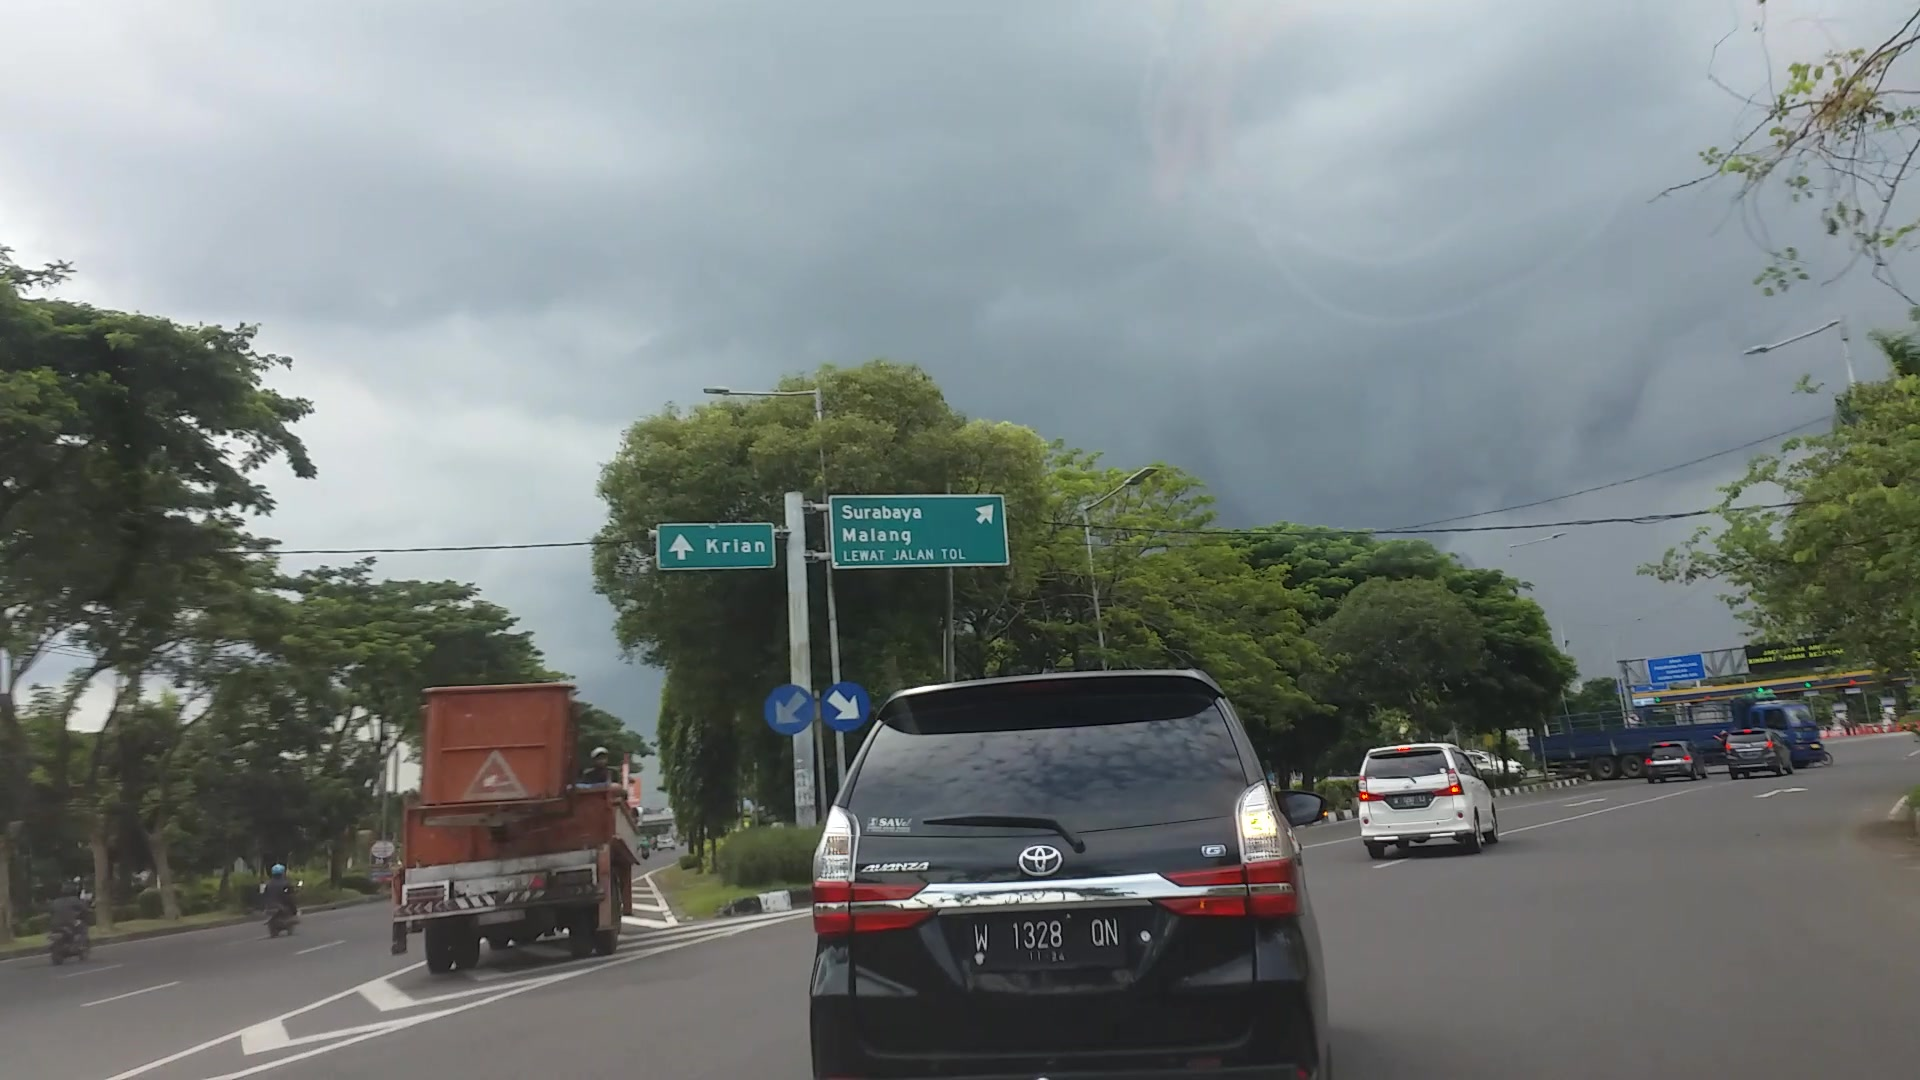plate_positive: (971, 913, 1124, 971)
